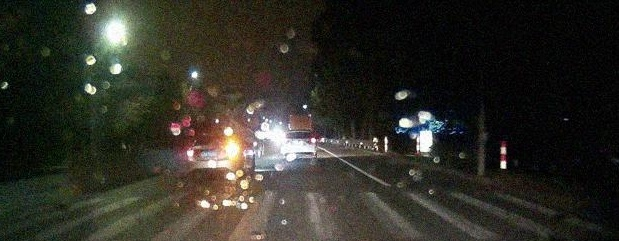L_light: (187, 150, 201, 157), (282, 139, 291, 144)
R_light: (221, 148, 237, 155), (306, 138, 316, 143)
T_light: (210, 135, 219, 139), (294, 132, 302, 134)
night-no: (281, 129, 316, 160)
night-right: (187, 133, 238, 181)
